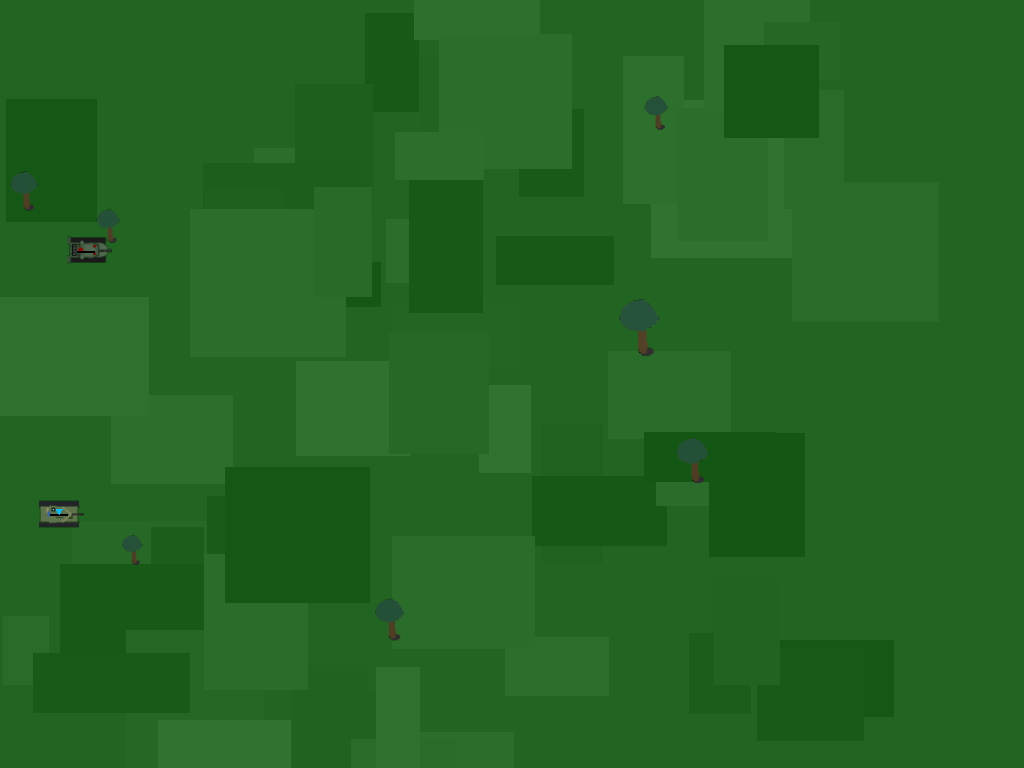M1A2_chn: (35, 490, 82, 537)
M1A2_rus: (63, 226, 110, 273)
